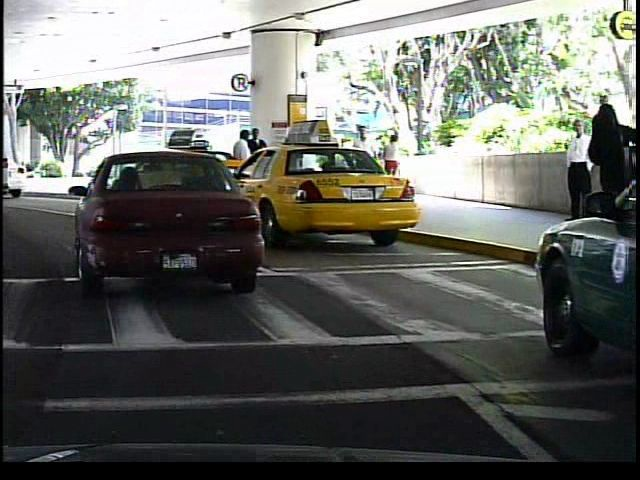person: (583, 99, 636, 258), (554, 112, 591, 215), (348, 118, 381, 201), (226, 127, 256, 205), (376, 130, 403, 195), (248, 125, 268, 201)
